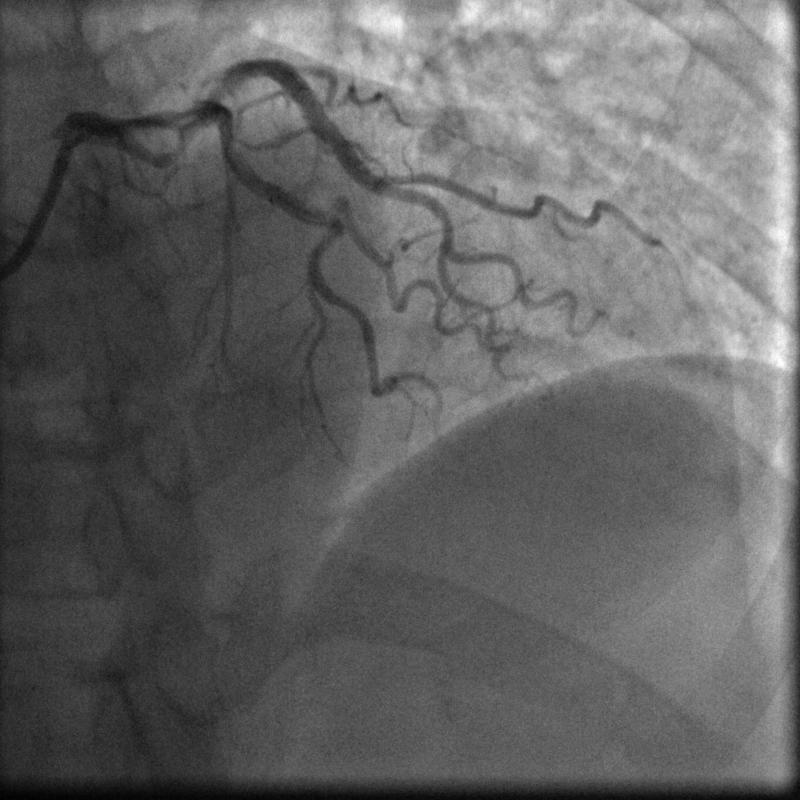Stenosis: (150, 127, 198, 163)
